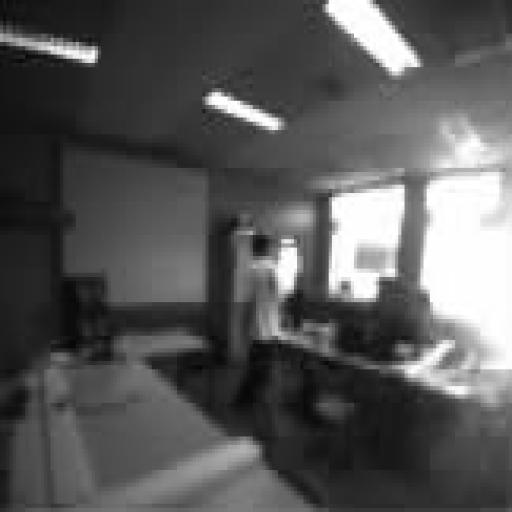human: (234, 236, 281, 407)
